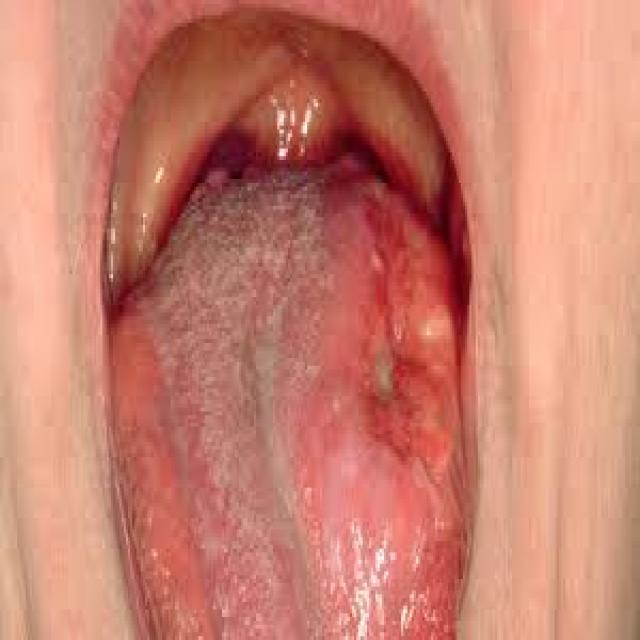right_region: (348, 212, 486, 514)
